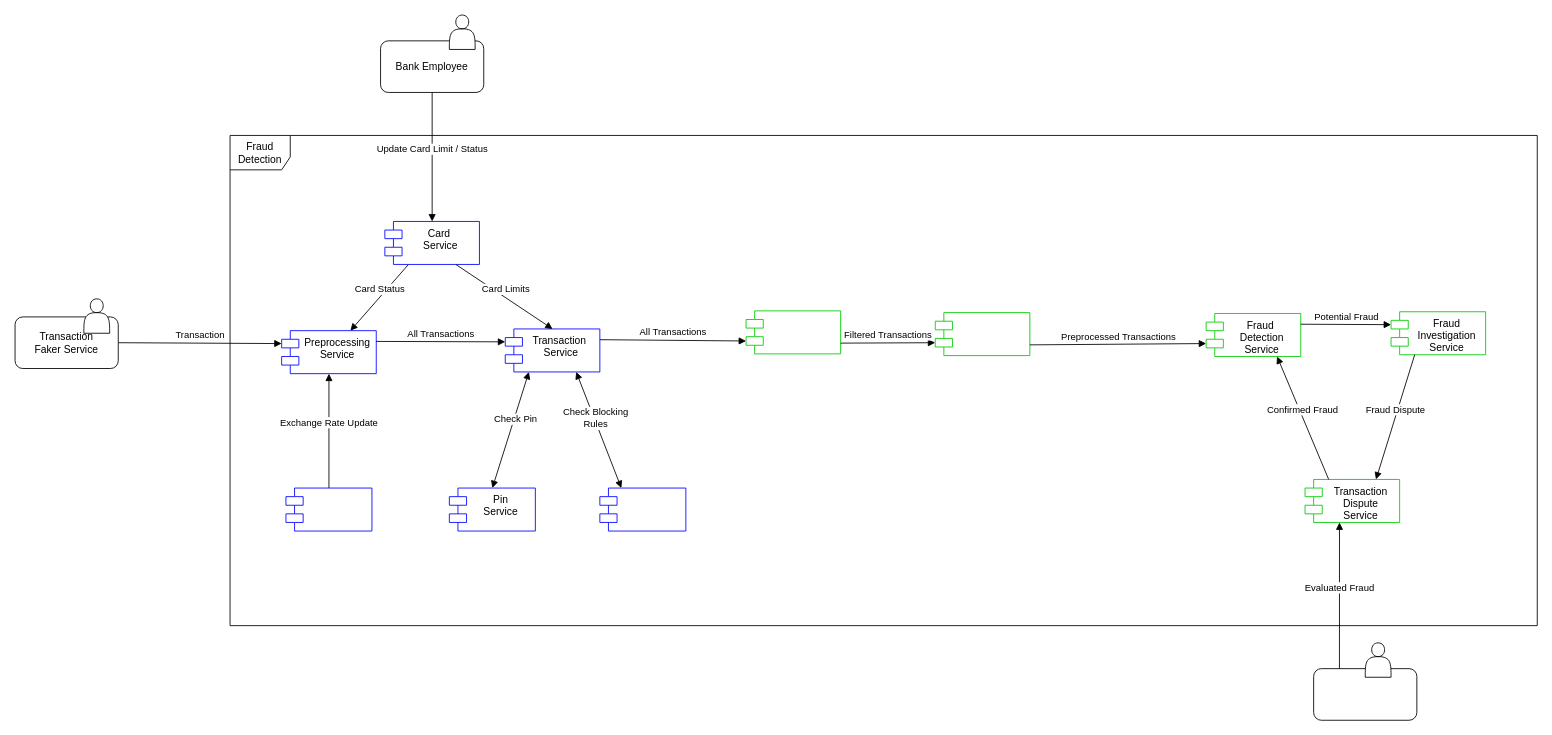
This 1552x735 diagram has some shape labels left out. The shapes that lost their labels are listed below. From the top down, each one's box as (x1, y1, x2, y2) in pixels, then its label:
(745, 310, 841, 354): Transaction Postprocessing Service
(934, 312, 1030, 356): Fraud Preprocessing Service
(285, 487, 372, 531): Exchange Rates Service
(599, 487, 686, 531): Blocking Rules Service
(1313, 668, 1417, 720): Customer Disputes
